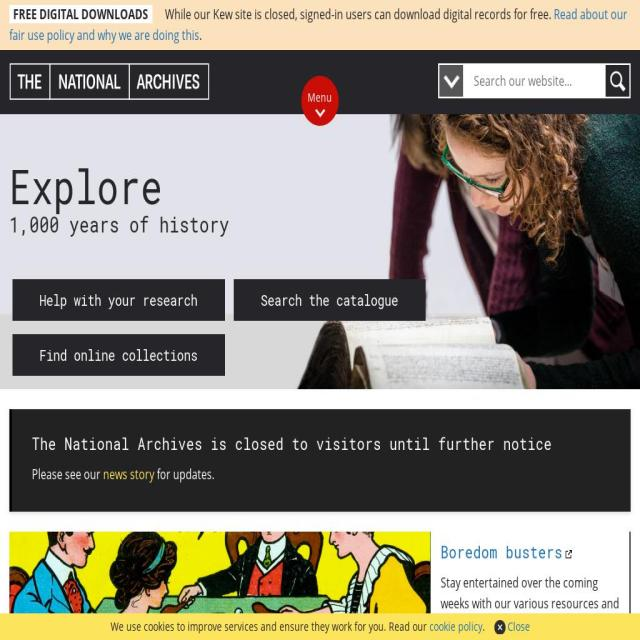button: (9, 531, 629, 640), (9, 62, 258, 100), (12, 278, 225, 321), (12, 333, 225, 376), (233, 278, 426, 321), (300, 75, 338, 126), (493, 617, 530, 635)
field: (464, 63, 606, 99), (604, 63, 630, 99)
heading: (9, 162, 630, 210), (9, 209, 630, 239), (32, 431, 592, 456), (440, 540, 562, 564)
image: (0, 113, 640, 389), (9, 62, 210, 100)
link: (10, 4, 628, 44), (440, 572, 620, 636), (104, 464, 154, 484), (428, 618, 482, 635)
text: (164, 4, 554, 23), (110, 618, 429, 635), (40, 288, 198, 310), (40, 343, 198, 365), (261, 288, 398, 310), (9, 4, 152, 23), (32, 464, 103, 484), (154, 464, 214, 484), (437, 63, 462, 95), (308, 89, 332, 106), (482, 618, 487, 635), (199, 25, 202, 44)
